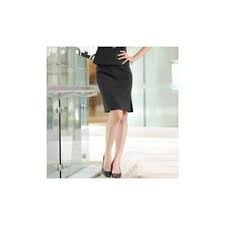F_tailored skirt: (79, 45, 141, 120)
